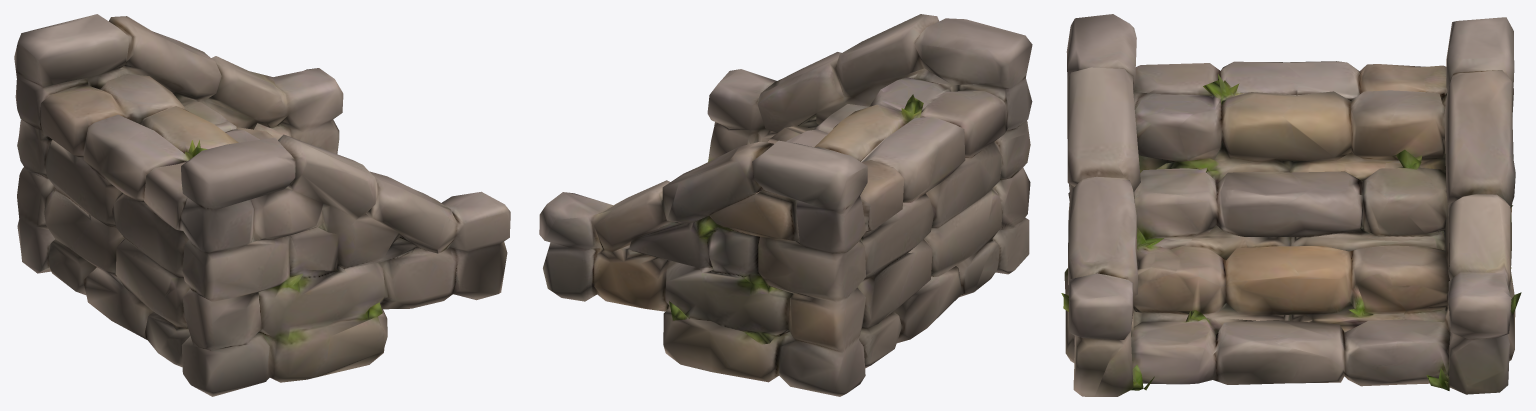
File: stairs_stone_l3.glb
3 views of the same model, side by side, from view 1: azimuth 30°, elevation 25°; view 2: azimuth 150°, elevation 25°; view 3: azimuth 270°, elevation 25° (orthographic). The views are drawn at different scales.
Parts seen in each view (by area): view 1: tripo_node_ca8a87b0-69b4-4206-b909-c1a4d31dd16f; view 2: tripo_node_ca8a87b0-69b4-4206-b909-c1a4d31dd16f; view 3: tripo_node_ca8a87b0-69b4-4206-b909-c1a4d31dd16f.
Part boxes in pixels (x1,y1,x2,y2): tripo_node_ca8a87b0-69b4-4206-b909-c1a4d31dd16f: [14, 14, 510, 396]; tripo_node_ca8a87b0-69b4-4206-b909-c1a4d31dd16f: [539, 14, 1032, 396]; tripo_node_ca8a87b0-69b4-4206-b909-c1a4d31dd16f: [1061, 14, 1521, 396].
Bounding box in the file's own units: 0.8501 × 0.6155 × 0.9793.
Materials: 1 (1 with a texture image).
